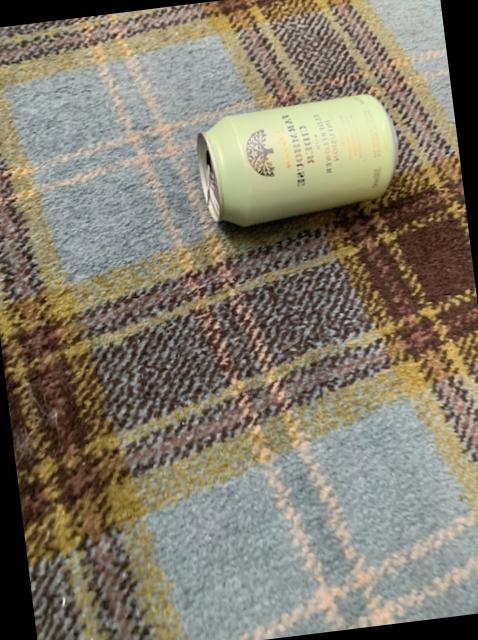metal: (199, 93, 398, 224)
